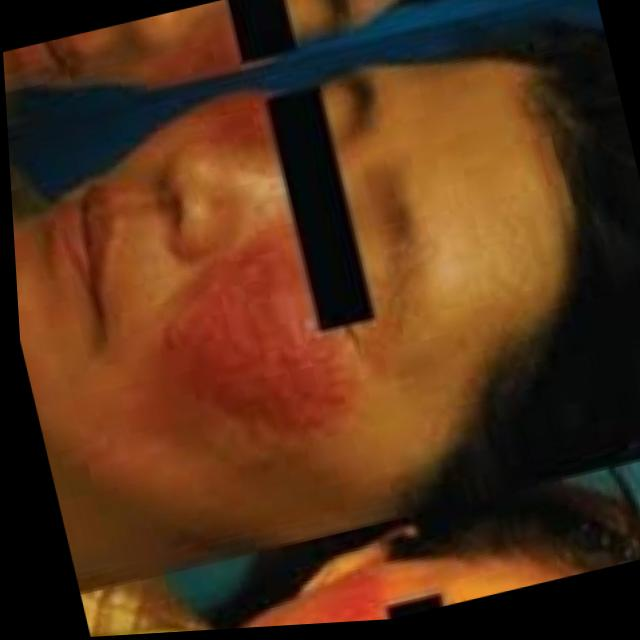Rosacea: (179, 250, 353, 438), (186, 96, 279, 155)
